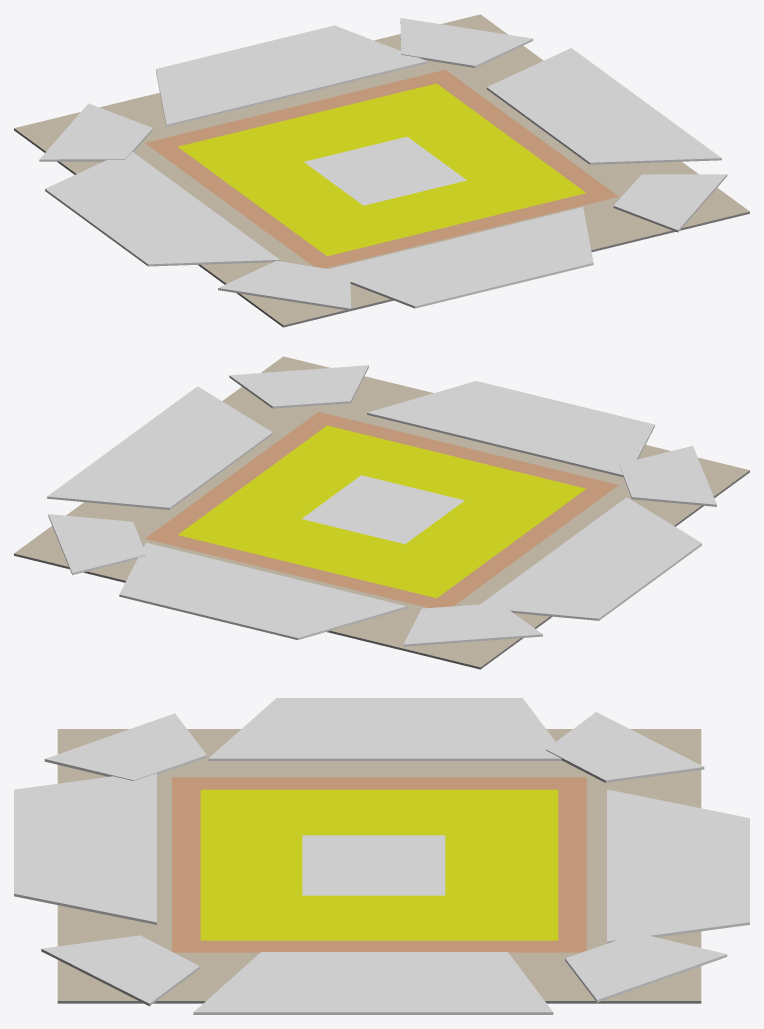
File: SocleBloc1.FBX
The picture shows the model from 3 angles, top to bottom: view 1: azimuth 30°, elevation 25°; view 2: azimuth 150°, elevation 25°; view 3: azimuth 270°, elevation 25°; orthographic projection. The views are drawn at different scales.
Parts seen in each view (by area): view 1: Box833, Box832, Box830, Box831, Box835, Plane011, Box837, Box829, Box834, Box836; view 2: Box833, Box832, Box831, Box830, Box835, Plane011, Box834, Box836, Box837, Box829; view 3: Box833, Box830, Box835, Box832, Box831, Plane011, Box829, Box834, Box836, Box837.
Boxes of the visible parts, <box> form: Box833: <box>14,14,749,327</box>; Box832: <box>156,25,427,126</box>; Box830: <box>486,48,721,164</box>; Box831: <box>329,207,593,308</box>; Box835: <box>45,152,280,266</box>; Plane011: <box>304,136,466,205</box>; Box837: <box>218,260,350,310</box>; Box829: <box>400,18,533,67</box>; Box834: <box>613,174,727,232</box>; Box836: <box>39,103,152,161</box>; Box833: <box>14,356,749,669</box>; Box832: <box>119,542,406,640</box>; Box831: <box>367,381,654,477</box>; Box830: <box>47,386,272,509</box>; Box835: <box>480,497,701,620</box>; Plane011: <box>302,475,464,543</box>; Box834: <box>229,365,368,408</box>; Box836: <box>403,603,542,646</box>; Box837: <box>619,446,716,506</box>; Box829: <box>48,514,145,574</box>; Box833: <box>57,729,701,1003</box>; Box830: <box>193,952,553,1014</box>; Box835: <box>208,698,562,760</box>; Box832: <box>607,789,749,943</box>; Box831: <box>14,773,156,924</box>; Plane011: <box>302,835,445,895</box>; Box829: <box>565,933,727,1002</box>; Box834: <box>41,935,199,1006</box>; Box836: <box>545,712,704,782</box>; Box837: <box>44,713,206,780</box>.
Bounding box in the file's own units: 205 × 2.74 × 203.
